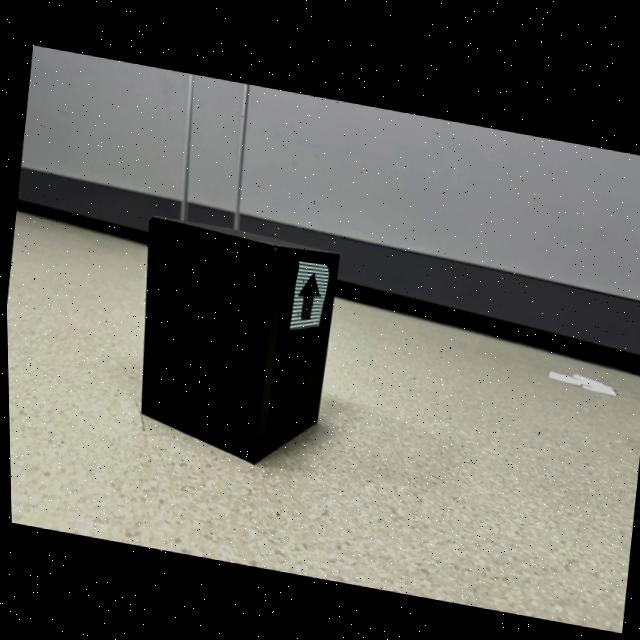UP: (298, 271, 318, 314)
